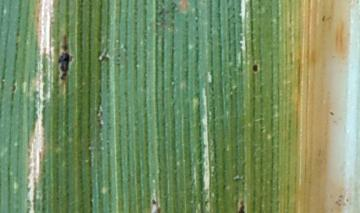tarspot: (60, 52, 70, 79), (238, 200, 246, 213), (61, 42, 70, 51), (251, 64, 259, 74), (150, 198, 157, 205)
